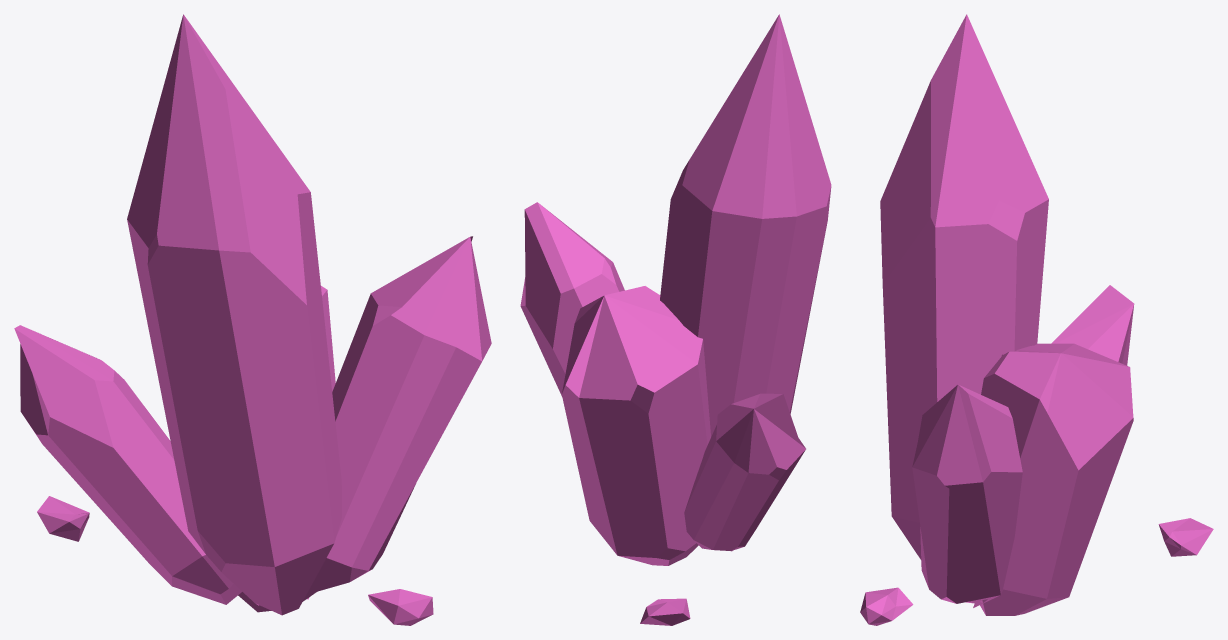
Rendered from crystal2.glb.
3 renders of one model, left to right at view 1: azimuth 30°, elevation 25°; view 2: azimuth 150°, elevation 25°; view 3: azimuth 270°, elevation 25°, orthographic. The views are drawn at different scales.
Visible parts, largest first — view 1: crystal2; view 2: crystal2; view 3: crystal2.
Boxes of the visible parts, x1,y1,x2,y2 form: crystal2: [14, 14, 491, 625]; crystal2: [520, 14, 831, 625]; crystal2: [860, 14, 1213, 625].
Size of the model in its own units: 3.07 by 4.92 by 2.85.
